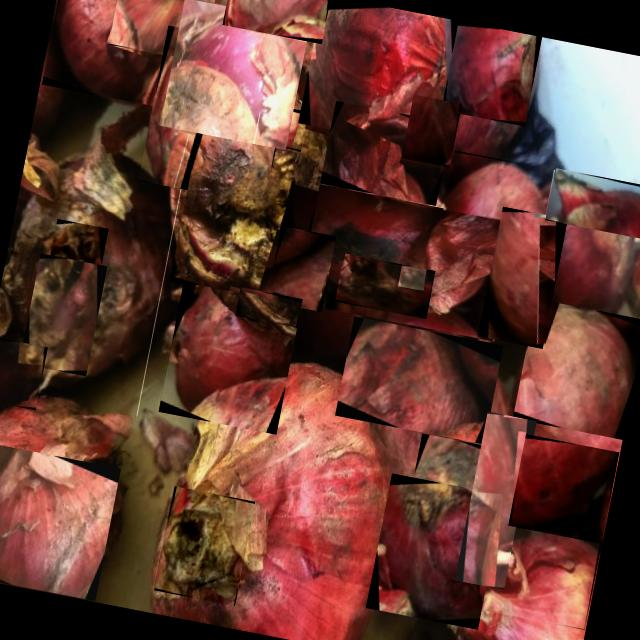rotten: (170, 92, 333, 306), (298, 0, 464, 150), (160, 0, 311, 150), (156, 282, 301, 434), (366, 474, 504, 630), (336, 316, 504, 444), (0, 441, 120, 601), (513, 299, 640, 440), (41, 0, 192, 108), (468, 520, 602, 630), (454, 412, 536, 590), (320, 101, 452, 206), (138, 26, 218, 190), (478, 207, 568, 349), (152, 486, 255, 606), (508, 434, 619, 544), (19, 254, 108, 376), (441, 20, 542, 126), (441, 151, 558, 240), (405, 433, 487, 532), (109, 0, 220, 63), (545, 168, 640, 240), (334, 253, 436, 320), (266, 226, 336, 312), (42, 219, 108, 304), (222, 0, 330, 44), (401, 96, 462, 170), (0, 336, 47, 410), (235, 287, 302, 328), (265, 146, 301, 204), (397, 264, 427, 292)
